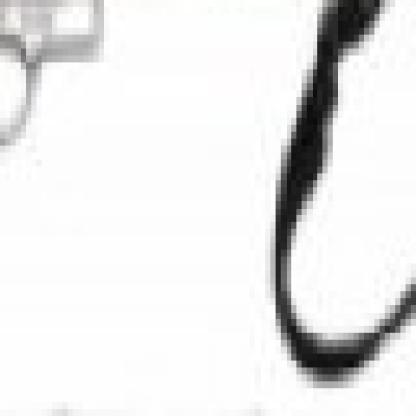gun: (0, 0, 411, 347)
